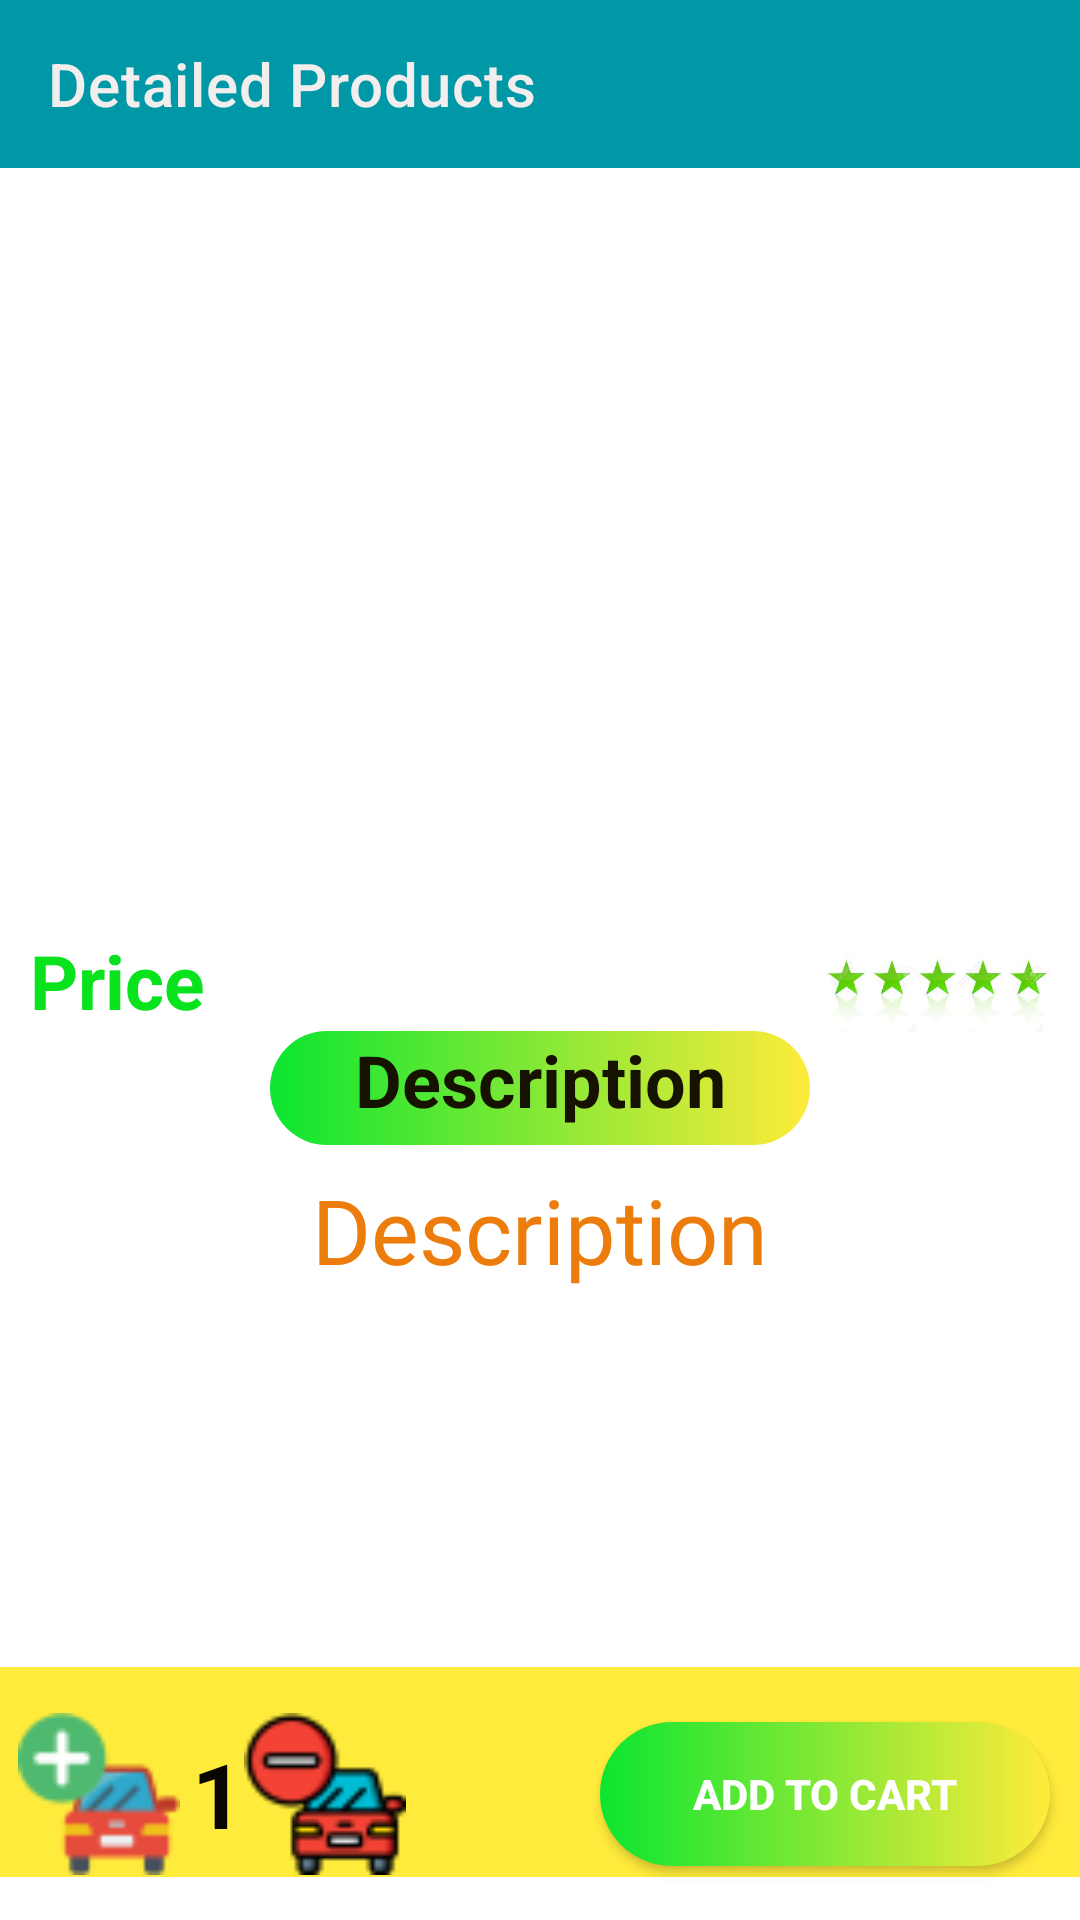

Locate icon controls on the screen. Image size 1080x1920, boxes as box=[x1, y1, x2, y2].
carminus: box=[244, 1713, 406, 1875]
pluscar: box=[18, 1713, 180, 1875]
ratingstars: box=[828, 956, 1047, 1010]
